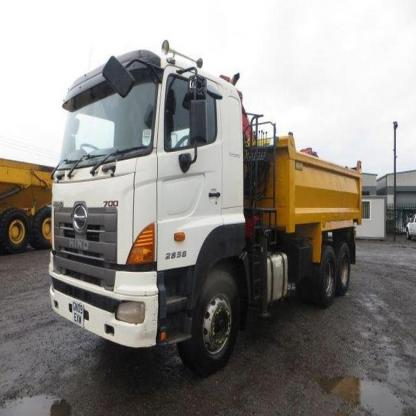dump_truck: (46, 45, 372, 375)
